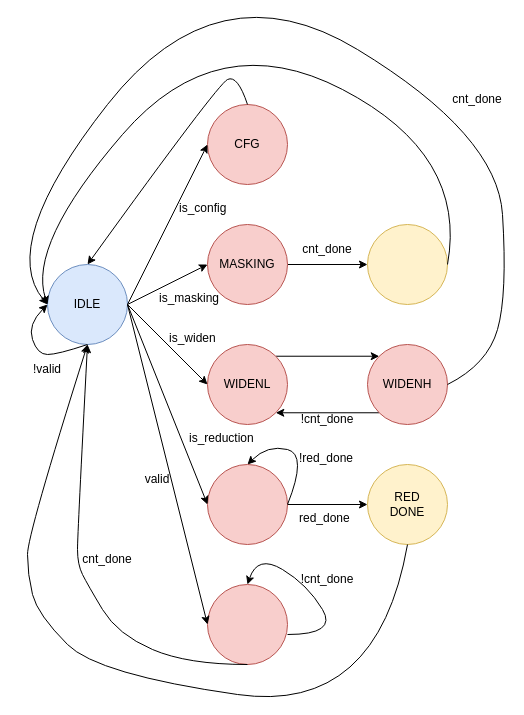
This 524x715 diagram has some shape labels left out. Here are the shapes that lost their labels. From the top down, the box of each, then its label:
(366, 224, 448, 304): FINAL MASKING
(206, 464, 288, 544): RED
(206, 584, 288, 664): EXEC
